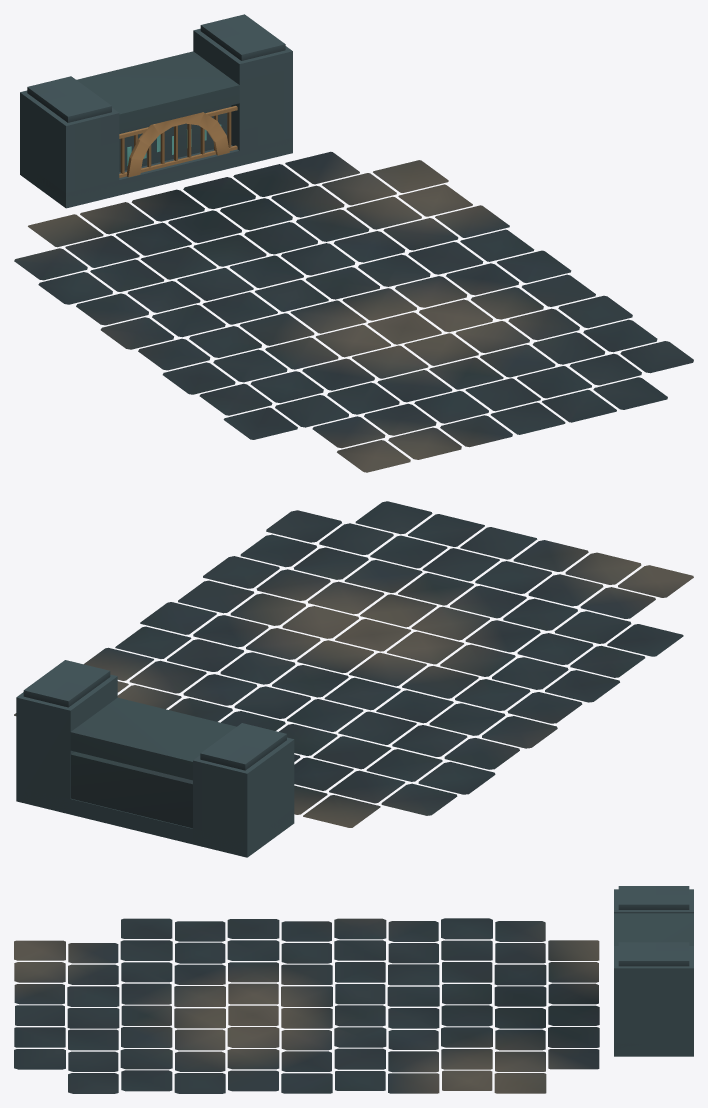
File: hollow-forge-court-v1.glb
3 renders of one model, top to bottom at view 1: azimuth 30°, elevation 25°; view 2: azimuth 150°, elevation 25°; view 3: azimuth 270°, elevation 25°, orthographic. The views are drawn at different scales.
Visible parts, largest first — view 1: GB_FORGE_FLOOR, GB_FORGE_KILN, GB_FORGE_COPPER; view 2: GB_FORGE_FLOOR, GB_FORGE_KILN; view 3: GB_FORGE_FLOOR, GB_FORGE_KILN.
Part boxes in pixels (x1,y1,x2,y2): GB_FORGE_FLOOR: (14, 151, 693, 472); GB_FORGE_KILN: (20, 14, 292, 208); GB_FORGE_COPPER: (119, 106, 237, 177); GB_FORGE_FLOOR: (14, 501, 693, 827); GB_FORGE_KILN: (16, 660, 294, 857); GB_FORGE_FLOOR: (14, 918, 599, 1093); GB_FORGE_KILN: (614, 886, 693, 1056).
Size of the model in its own units: 31.1 by 7.74 by 50.95.
